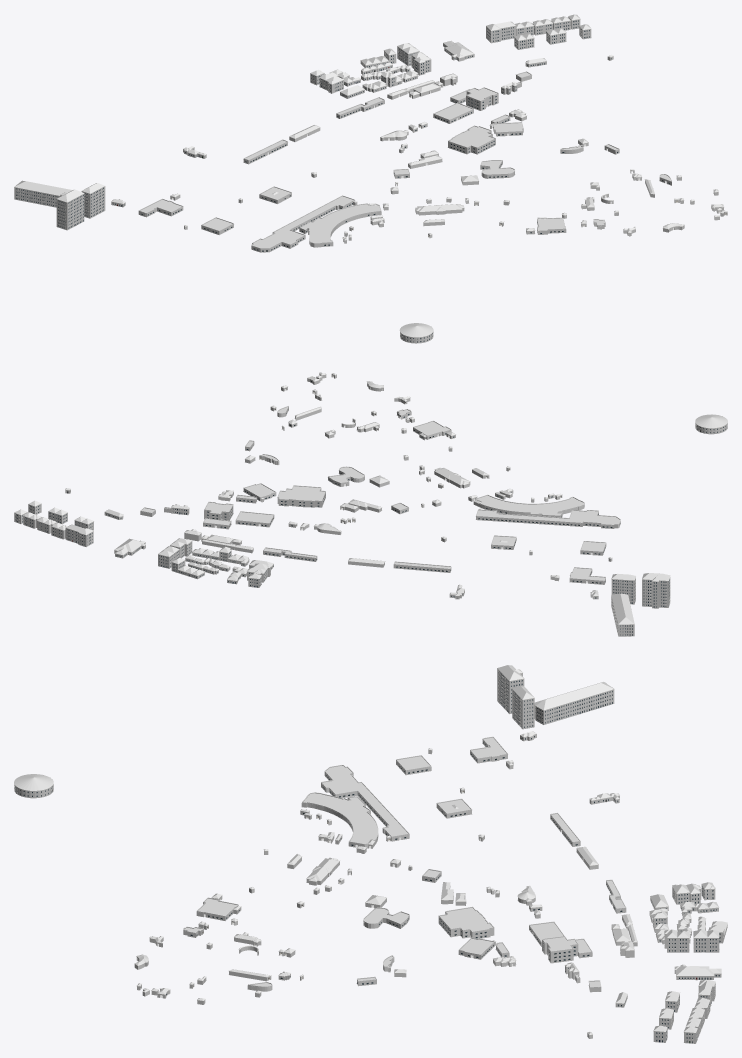
Rendered from buildings.glb.
The picture shows the model from 3 angles, top to bottom: view 1: azimuth 30°, elevation 25°; view 2: azimuth 150°, elevation 25°; view 3: azimuth 270°, elevation 25°; orthographic projection. The views are drawn at different scales.
Visible parts, largest first — view 1: Buildings; view 2: Buildings; view 3: Buildings.
Boxes of the visible parts, x1=… form: Buildings: x1=14, y1=14, x2=727, y2=343; Buildings: x1=14, y1=372, x2=727, y2=636; Buildings: x1=14, y1=665, x2=727, y2=1043.
Size of the model in its own units: 729 by 37.31 by 633.
